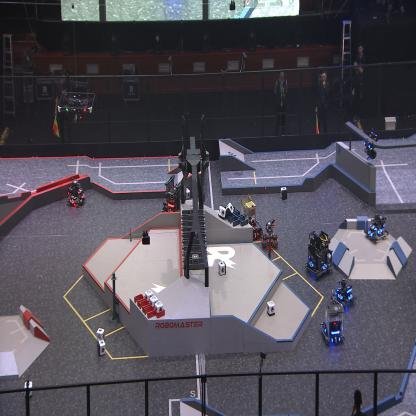car: (305, 231, 334, 280), (236, 193, 262, 242), (320, 300, 346, 346), (161, 174, 183, 219), (363, 214, 389, 244), (332, 278, 356, 310), (259, 216, 277, 248), (67, 179, 85, 207)
